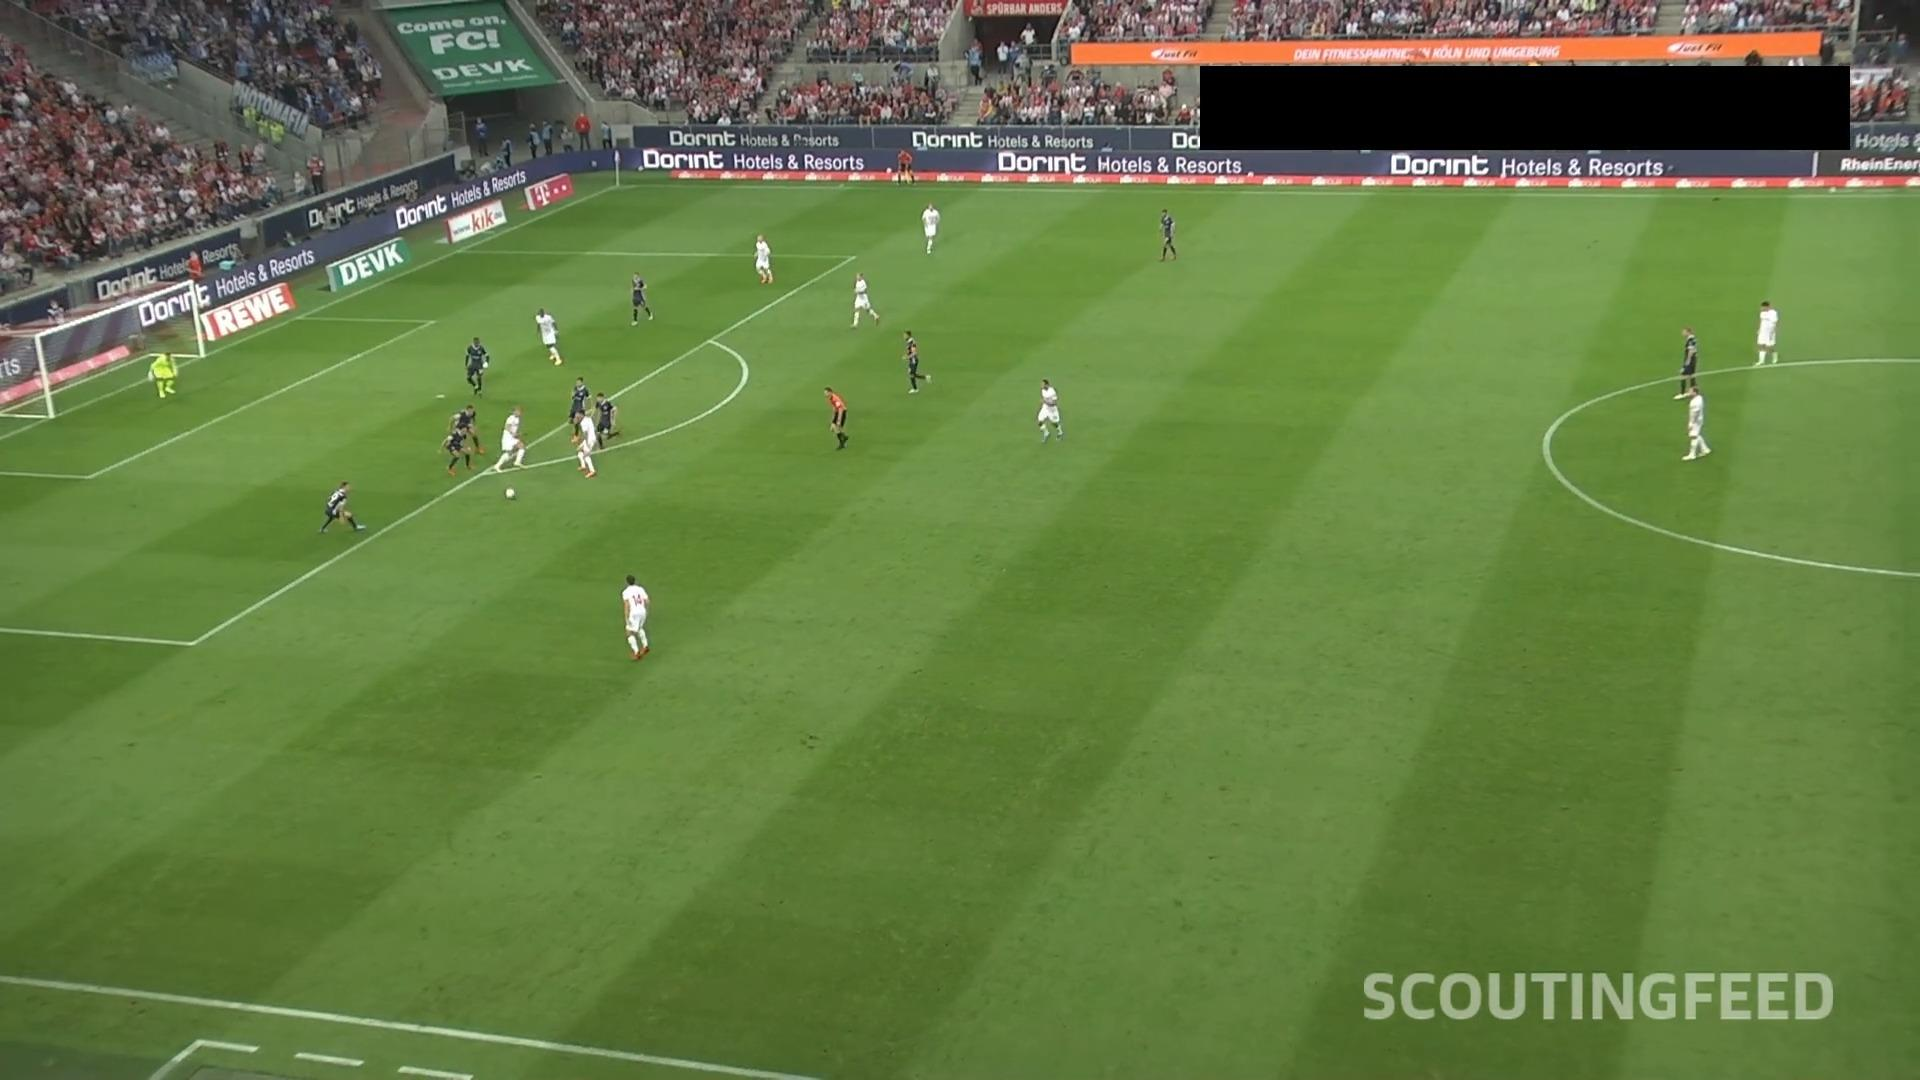ball: (502, 487, 517, 501)
